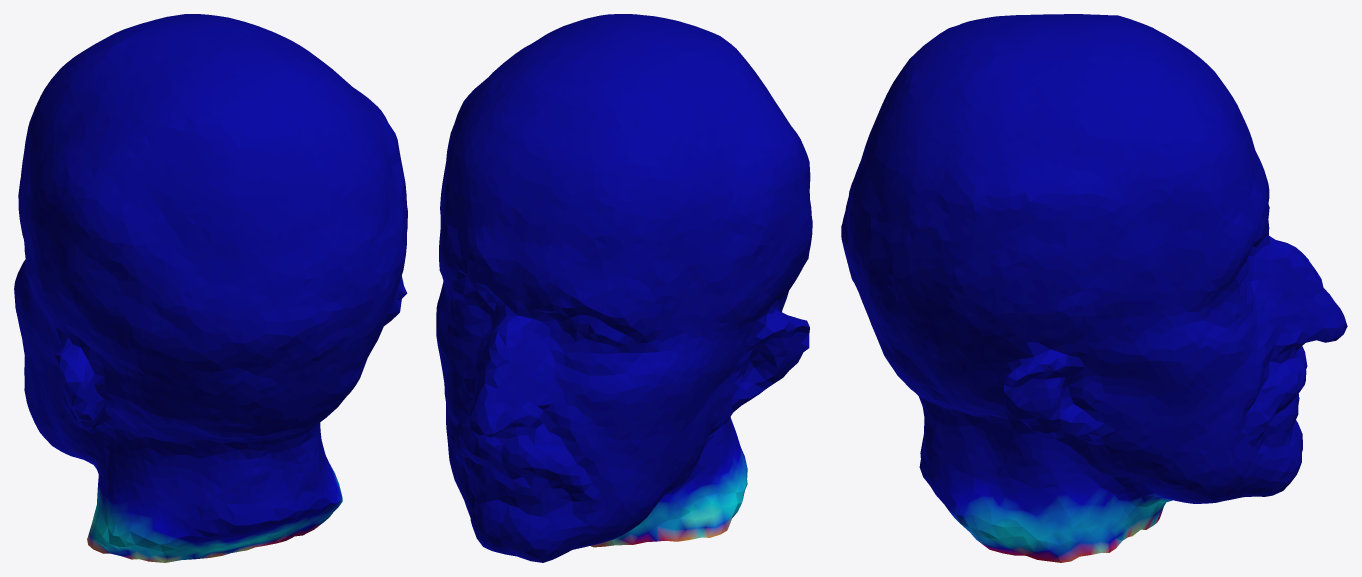
File: max_boundary_0.glb
The picture shows the model from 3 angles, left to right: view 1: azimuth 30°, elevation 25°; view 2: azimuth 150°, elevation 25°; view 3: azimuth 270°, elevation 25°; orthographic projection. The views are drawn at different scales.
Parts seen in each view (by area): view 1: max_boundary_2.obj; view 2: max_boundary_2.obj; view 3: max_boundary_2.obj.
Part boxes in pixels (x1,y1,x2,y2): max_boundary_2.obj: [14, 14, 407, 562]; max_boundary_2.obj: [436, 14, 812, 562]; max_boundary_2.obj: [841, 14, 1347, 562].
Size of the model in its own units: 1.27 by 1.7 by 1.62.
